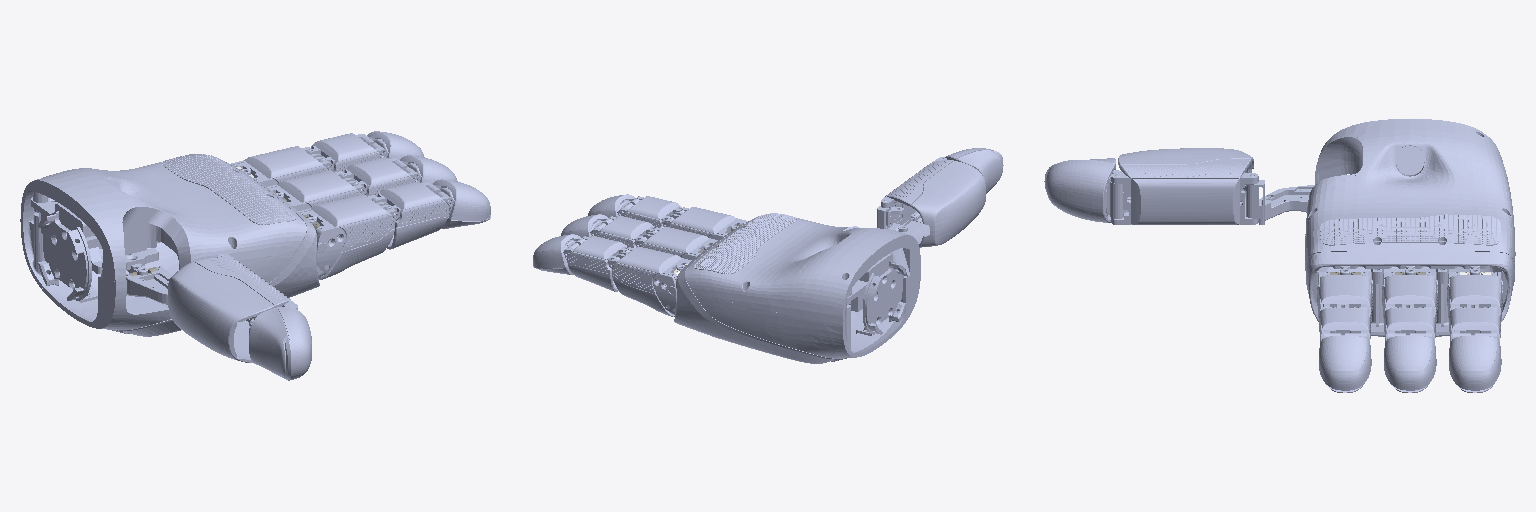
robot.urdf — dexh13_right:
<?xml version="1.0" encoding="utf-8"?>
<!-- This URDF was automatically created by SolidWorks to URDF Exporter! Originally created by [author] ([email redacted]) 
     Commit Version: 1.6.0-4-g7f85cfe  Build Version: 1.6.7995.38578
     For more information, please see http://wiki.ros.org/sw_urdf_exporter -->
<robot
  name="dexh13_right">
  <link
    name="right_palm">
    <inertial>
      <origin
        xyz="0.058857 0.0011395 -0.0010923"
        rpy="0 0 0" />
      <mass
        value="0.14602" />
      <inertia
        ixx="0.00014434"
        ixy="4.5222E-06"
        ixz="7.0377E-06"
        iyy="0.00015522"
        iyz="-1.5057E-06"
        izz="0.00027709" />
    </inertial>
    <visual>
      <origin
        xyz="0 0 0"
        rpy="0 0 0" />
      <geometry>
        <mesh
          filename="package://bullet_simulation_pkg/meshes/dexh13_right/meshes/right_palm.STL" />
      </geometry>
      <material
        name="">
        <color
          rgba="0.79216 0.81961 0.93333 1" />
      </material>
    </visual>
    <collision>
      <origin
        xyz="0 0 0"
        rpy="0 0 0" />
      <geometry>
        <mesh
          filename="package://bullet_simulation_pkg/meshes/dexh13_right/meshes/right_palm.STL" />
      </geometry>
    </collision>
  </link>
  <link
    name="right_thumb_link_0">
    <inertial>
      <origin
        xyz="0.00022689 -4.6121E-11 -2.1931E-05"
        rpy="0 0 0" />
      <mass
        value="0.00021958" />
      <inertia
        ixx="5.0993E-09"
        ixy="2.4672E-16"
        ixz="1.0918E-12"
        iyy="8.3569E-10"
        iyz="-9.2448E-18"
        izz="5.3667E-09" />
    </inertial>
    <visual>
      <origin
        xyz="0 0 0"
        rpy="0 0 0" />
      <geometry>
        <mesh
          filename="package://bullet_simulation_pkg/meshes/dexh13_right/meshes/right_thumb_link_0.STL" />
      </geometry>
      <material
        name="">
        <color
          rgba="0.66667 0.66667 0.6549 1" />
      </material>
    </visual>
    <collision>
      <origin
        xyz="0 0 0"
        rpy="0 0 0" />
      <geometry>
        <mesh
          filename="package://bullet_simulation_pkg/meshes/dexh13_right/meshes/right_thumb_link_0.STL" />
      </geometry>
    </collision>
  </link>
  <joint
    name="right_thumb_joint_0"
    type="revolute">
    <origin
      xyz="0.026 -0.0365 -0.00025"
      rpy="3.1416 0 -1.5708" />
    <parent
      link="right_palm" />
    <child
      link="right_thumb_link_0" />
    <axis
      xyz="0 0 1" />
    <limit
      lower="-0.349"
      upper="0.349"
      effort="1"
      velocity="2" />
  </joint>
  <link
    name="right_thumb_link_1">
    <inertial>
      <origin
        xyz="0.020619 0.00016609 -0.0068342"
        rpy="0 0 0" />
      <mass
        value="0.0051746" />
      <inertia
        ixx="6.2523E-07"
        ixy="-2.4757E-07"
        ixz="5.2859E-07"
        iyy="1.5946E-06"
        iyz="1.4958E-07"
        izz="1.2368E-06" />
    </inertial>
    <visual>
      <origin
        xyz="0 0 0"
        rpy="0 0 0" />
      <geometry>
        <mesh
          filename="package://bullet_simulation_pkg/meshes/dexh13_right/meshes/right_thumb_link_1.STL" />
      </geometry>
      <material
        name="">
        <color
          rgba="0.79216 0.81961 0.93333 1" />
      </material>
    </visual>
    <collision>
      <origin
        xyz="0 0 0"
        rpy="0 0 0" />
      <geometry>
        <mesh
          filename="package://bullet_simulation_pkg/meshes/dexh13_right/meshes/right_thumb_link_1.STL" />
      </geometry>
    </collision>
  </link>
  <joint
    name="right_thumb_joint_1"
    type="revolute">
    <origin
      xyz="0 0 0"
      rpy="-1.5708 0 0" />
    <parent
      link="right_thumb_link_0" />
    <child
      link="right_thumb_link_1" />
    <axis
      xyz="0 0 1" />
    <limit
      lower="0"
      upper="1.5707"
      effort="1"
      velocity="2" />
  </joint>
  <link
    name="right_thumb_link_2">
    <inertial>
      <origin
        xyz="0.02918645206419 -0.0186272539522961 -0.000218603467386669"
        rpy="0 0 0" />
      <mass
        value="0.0167100811373488" />
      <inertia
        ixx="2.5428679239645E-06"
        ixy="8.65483361519591E-07"
        ixz="-1.60738702947654E-08"
        iyy="6.42438168579997E-06"
        iyz="5.60119113005685E-09"
        izz="6.11372810219796E-06" />
    </inertial>
    <visual>
      <origin
        xyz="0 0 0"
        rpy="0 0 0" />
      <geometry>
        <mesh
          filename="package://bullet_simulation_pkg/meshes/dexh13_right/meshes/right_thumb_link_2.STL" />
      </geometry>
      <material
        name="">
        <color
          rgba="0.792156862745098 0.819607843137255 0.933333333333333 1" />
      </material>
    </visual>
    <collision>
      <origin
        xyz="0 0 0"
        rpy="0 0 0" />
      <geometry>
        <mesh
          filename="package://bullet_simulation_pkg/meshes/dexh13_right/meshes/right_thumb_link_2.STL" />
      </geometry>
    </collision>
  </link>
  <joint
    name="right_thumb_joint_2"
    type="revolute">
    <origin
      xyz="0.039999 0.009 -0.0215"
      rpy="-1.5708 0.261799388 0" />
    <parent
      link="right_thumb_link_1" />
    <child
      link="right_thumb_link_2" />
    <axis
      xyz="0 0 1" />
    <limit
      lower="0"
      upper="1.5707"
      effort="1"
      velocity="2" />
  </joint>
  <link
    name="right_thumb_link_3">
    <inertial>
      <origin
        xyz="0.0099378 -0.0145 -4.7179E-05"
        rpy="0 0 0" />
      <mass
        value="0.016623" />
      <inertia
        ixx="1.4378E-06"
        ixy="5.4779E-07"
        ixz="-8.5437E-09"
        iyy="1.6315E-06"
        iyz="6.1424E-09"
        izz="1.4635E-06" />
    </inertial>
    <visual>
      <origin
        xyz="0 0 0"
        rpy="0 0 0" />
      <geometry>
        <mesh
          filename="package://bullet_simulation_pkg/meshes/dexh13_right/meshes/right_thumb_link_3.STL" />
      </geometry>
      <material
        name="">
        <color
          rgba="0.79216 0.81961 0.93333 1" />
      </material>
    </visual>
    <collision>
      <origin
        xyz="0 0 0"
        rpy="0 0 0" />
      <geometry>
        <mesh
          filename="package://bullet_simulation_pkg/meshes/dexh13_right/meshes/right_thumb_link_3.STL" />
      </geometry>
    </collision>
  </link>
  <joint
    name="right_thumb_joint_3"
    type="revolute">
    <origin
      xyz="0.063268 -0.016953 0"
      rpy="0 0 0" />
    <parent
      link="right_thumb_link_2" />
    <child
      link="right_thumb_link_3" />
    <axis
      xyz="0 0 1" />
    <limit
      lower="0"
      upper="1.5707"
      effort="1"
      velocity="2" />
  </joint>
  <link
    name="right_index_link_0">
    <inertial>
      <origin
        xyz="0.00022689 4.6121E-11 2.1931E-05"
        rpy="0 0 0" />
      <mass
        value="0.00021958" />
      <inertia
        ixx="5.0993E-09"
        ixy="-2.4672E-16"
        ixz="-1.0918E-12"
        iyy="8.3569E-10"
        iyz="-9.2447E-18"
        izz="5.3667E-09" />
    </inertial>
    <visual>
      <origin
        xyz="0 0 0"
        rpy="0 0 0" />
      <geometry>
        <mesh
          filename="package://bullet_simulation_pkg/meshes/dexh13_right/meshes/right_index_link_0.STL" />
      </geometry>
      <material
        name="">
        <color
          rgba="0.66667 0.66667 0.6549 1" />
      </material>
    </visual>
    <collision>
      <origin
        xyz="0 0 0"
        rpy="0 0 0" />
      <geometry>
        <mesh
          filename="package://bullet_simulation_pkg/meshes/dexh13_right/meshes/right_index_link_0.STL" />
      </geometry>
    </collision>
  </link>
  <joint
    name="right_index_joint_0"
    type="revolute">
    <origin
      xyz="0.122 -0.0315 0.00175"
      rpy="-3.1416 0 0" />
    <parent
      link="right_palm" />
    <child
      link="right_index_link_0" />
    <axis
      xyz="0 0 1" />
    <limit
      lower="-0.349"
      upper="0.349"
      effort="1"
      velocity="2" />
  </joint>
  <link
    name="right_index_link_1">
    <inertial>
      <origin
        xyz="0.013497 -0.0082165 -0.00012423"
        rpy="0 0 0" />
      <mass
        value="0.011243" />
      <inertia
        ixx="8.2451E-07"
        ixy="-1.615E-07"
        ixz="-6.771E-09"
        iyy="1.587E-06"
        iyz="-1.3021E-09"
        izz="1.282E-06" />
    </inertial>
    <visual>
      <origin
        xyz="0 0 0"
        rpy="0 0 0" />
      <geometry>
        <mesh
          filename="package://bullet_simulation_pkg/meshes/dexh13_right/meshes/right_index_link_1.STL" />
      </geometry>
      <material
        name="">
        <color
          rgba="0.79216 0.81961 0.93333 1" />
      </material>
    </visual>
    <collision>
      <origin
        xyz="0 0 0"
        rpy="0 0 0" />
      <geometry>
        <mesh
          filename="package://bullet_simulation_pkg/meshes/dexh13_right/meshes/right_index_link_1.STL" />
      </geometry>
    </collision>
  </link>
  <joint
    name="right_index_joint_1"
    type="revolute">
    <origin
      xyz="0 0 0"
      rpy="-1.5708 0 0" />
    <parent
      link="right_index_link_0" />
    <child
      link="right_index_link_1" />
    <axis
      xyz="0 0 1" />
    <limit
      lower="0"
      upper="1.5707"
      effort="1"
      velocity="2" />
  </joint>
  <link
    name="right_index_link_2">
    <inertial>
      <origin
        xyz="0.0137857073448056 -0.00378219545864722 -4.81393113573522E-05"
        rpy="0 0 0" />
      <mass
        value="0.0060940829771732" />
      <inertia
        ixx="4.05222652751935E-07"
        ixy="-2.63296727229242E-08"
        ixz="-6.2205892933295E-09"
        iyy="6.69894710350192E-07"
        iyz="1.14007707610596E-10"
        izz="4.5058620817902E-07" />
    </inertial>
    <visual>
      <origin
        xyz="0 0 0"
        rpy="0 0 0" />
      <geometry>
        <mesh
          filename="package://bullet_simulation_pkg/meshes/dexh13_right/meshes/right_index_link_2.STL" />
      </geometry>
      <material
        name="">
        <color
          rgba="0.792156862745098 0.819607843137255 0.933333333333333 1" />
      </material>
    </visual>
    <collision>
      <origin
        xyz="0 0 0"
        rpy="0 0 0" />
      <geometry>
        <mesh
          filename="package://bullet_simulation_pkg/meshes/dexh13_right/meshes/right_index_link_2.STL" />
      </geometry>
    </collision>
  </link>
  <joint
    name="right_index_joint_2"
    type="revolute">
    <origin
      xyz="0.04 0 0"
      rpy="0 0 0" />
    <parent
      link="right_index_link_1" />
    <child
      link="right_index_link_2" />
    <axis
      xyz="0 0 1" />
    <limit
      lower="0"
      upper="1.5707"
      effort="1"
      velocity="2" />
  </joint>
  <link
    name="right_index_link_3">
    <inertial>
      <origin
        xyz="0.010653 -0.0078229 8.3867E-05"
        rpy="0 0 0" />
      <mass
        value="0.0084358" />
      <inertia
        ixx="4.2095E-07"
        ixy="1.3093E-07"
        ixz="6.1359E-10"
        iyy="6.4835E-07"
        iyz="1.4884E-09"
        izz="4.8338E-07" />
    </inertial>
    <visual>
      <origin
        xyz="0 0 0"
        rpy="0 0 0" />
      <geometry>
        <mesh
          filename="package://bullet_simulation_pkg/meshes/dexh13_right/meshes/right_index_link_3.STL" />
      </geometry>
      <material
        name="">
        <color
          rgba="0.79216 0.81961 0.93333 1" />
      </material>
    </visual>
    <collision>
      <origin
        xyz="0 0 0"
        rpy="0 0 0" />
      <geometry>
        <mesh
          filename="package://bullet_simulation_pkg/meshes/dexh13_right/meshes/right_index_link_3.STL" />
      </geometry>
    </collision>
  </link>
  <joint
    name="right_index_joint_3"
    type="revolute">
    <origin
      xyz="0.03 0 0"
      rpy="0 0 0" />
    <parent
      link="right_index_link_2" />
    <child
      link="right_index_link_3" />
    <axis
      xyz="0 0 1" />
    <limit
      lower="0"
      upper="1.5707"
      effort="1"
      velocity="2" />
  </joint>
  <link
    name="right_middle_link_0">
    <inertial>
      <origin
        xyz="0.00022689 4.6121E-11 2.1931E-05"
        rpy="0 0 0" />
      <mass
        value="0.00021958" />
      <inertia
        ixx="5.0993E-09"
        ixy="-2.4672E-16"
        ixz="-1.0918E-12"
        iyy="8.3569E-10"
        iyz="-9.2447E-18"
        izz="5.3667E-09" />
    </inertial>
    <visual>
      <origin
        xyz="0 0 0"
        rpy="0 0 0" />
      <geometry>
        <mesh
          filename="package://bullet_simulation_pkg/meshes/dexh13_right/meshes/right_middle_link_0.STL" />
      </geometry>
      <material
        name="">
        <color
          rgba="0.66667 0.66667 0.6549 1" />
      </material>
    </visual>
    <collision>
      <origin
        xyz="0 0 0"
        rpy="0 0 0" />
      <geometry>
        <mesh
          filename="package://bullet_simulation_pkg/meshes/dexh13_right/meshes/right_middle_link_0.STL" />
      </geometry>
    </collision>
  </link>
  <joint
    name="right_middle_joint_0"
    type="revolute">
    <origin
      xyz="0.122 0 0.00175"
      rpy="-3.1416 0 0" />
    <parent
      link="right_palm" />
    <child
      link="right_middle_link_0" />
    <axis
      xyz="0 0 1" />
    <limit
      lower="-0.349"
      upper="0.349"
      effort="1"
      velocity="2" />
  </joint>
  <link
    name="right_middle_link_1">
    <inertial>
      <origin
        xyz="0.013497 -0.0082165 -0.00012423"
        rpy="0 0 0" />
      <mass
        value="0.011243" />
      <inertia
        ixx="8.2451E-07"
        ixy="-1.615E-07"
        ixz="-6.771E-09"
        iyy="1.587E-06"
        iyz="-1.3021E-09"
        izz="1.282E-06" />
    </inertial>
    <visual>
      <origin
        xyz="0 0 0"
        rpy="0 0 0" />
      <geometry>
        <mesh
          filename="package://bullet_simulation_pkg/meshes/dexh13_right/meshes/right_middle_link_1.STL" />
      </geometry>
      <material
        name="">
        <color
          rgba="0.79216 0.81961 0.93333 1" />
      </material>
    </visual>
    <collision>
      <origin
        xyz="0 0 0"
        rpy="0 0 0" />
      <geometry>
        <mesh
          filename="package://bullet_simulation_pkg/meshes/dexh13_right/meshes/right_middle_link_1.STL" />
      </geometry>
    </collision>
  </link>
  <joint
    name="right_middle_joint_1"
    type="revolute">
    <origin
      xyz="0 0 0"
      rpy="-1.5708 0 0" />
    <parent
      link="right_middle_link_0" />
    <child
      link="right_middle_link_1" />
    <axis
      xyz="0 0 1" />
    <limit
      lower="0"
      upper="1.5707"
      effort="1"
      velocity="2" />
  </joint>
  <link
    name="right_middle_link_2">
    <inertial>
      <origin
        xyz="0.013786 -0.0037822 -4.8139E-05"
        rpy="0 0 0" />
      <mass
        value="0.0060941" />
      <inertia
        ixx="4.0522E-07"
        ixy="-2.633E-08"
        ixz="-6.2206E-09"
        iyy="6.6989E-07"
        iyz="1.1401E-10"
        izz="4.5059E-07" />
    </inertial>
    <visual>
      <origin
        xyz="0 0 0"
        rpy="0 0 0" />
      <geometry>
        <mesh
          filename="package://bullet_simulation_pkg/meshes/dexh13_right/meshes/right_middle_link_2.STL" />
      </geometry>
      <material
        name="">
        <color
          rgba="0.79216 0.81961 0.93333 1" />
      </material>
    </visual>
    <collision>
      <origin
        xyz="0 0 0"
        rpy="0 0 0" />
      <geometry>
        <mesh
          filename="package://bullet_simulation_pkg/meshes/dexh13_right/meshes/right_middle_link_2.STL" />
      </geometry>
    </collision>
  </link>
  <joint
    name="right_middle_joint_2"
    type="revolute">
    <origin
      xyz="0.04 0 0"
      rpy="0 0 0" />
    <parent
      link="right_middle_link_1" />
    <child
      link="right_middle_link_2" />
    <axis
      xyz="0 0 1" />
    <limit
      lower="0"
      upper="1.5707"
      effort="1"
      velocity="2" />
  </joint>
  <link
    name="right_middle_link_3">
    <inertial>
      <origin
        xyz="0.010653 -0.0078229 8.3867E-05"
        rpy="0 0 0" />
      <mass
        value="0.0084358" />
      <inertia
        ixx="4.2095E-07"
        ixy="1.3093E-07"
        ixz="6.1359E-10"
        iyy="6.4835E-07"
        iyz="1.4884E-09"
        izz="4.8338E-07" />
    </inertial>
    <visual>
      <origin
        xyz="0 0 0"
        rpy="0 0 0" />
      <geometry>
        <mesh
          filename="package://bullet_simulation_pkg/meshes/dexh13_right/meshes/right_middle_link_3.STL" />
      </geometry>
      <material
        name="">
        <color
          rgba="0.79216 0.81961 0.93333 1" />
      </material>
    </visual>
    <collision>
      <origin
        xyz="0 0 0"
        rpy="0 0 0" />
      <geometry>
        <mesh
          filename="package://bullet_simulation_pkg/meshes/dexh13_right/meshes/right_middle_link_3.STL" />
      </geometry>
    </collision>
  </link>
  <joint
    name="right_middle_joint_3"
    type="revolute">
    <origin
      xyz="0.03 0 0"
      rpy="0 0 0" />
    <parent
      link="right_middle_link_2" />
    <child
      link="right_middle_link_3" />
    <axis
      xyz="0 0 1" />
    <limit
      lower="0"
      upper="1.5707"
      effort="1"
      velocity="2" />
  </joint>
  <link
    name="right_ring_link_0">
    <inertial>
      <origin
        xyz="0 0 0"
        rpy="0 0 0" />
      <mass
        value="0" />
      <inertia
        ixx="0"
        ixy="0"
        ixz="0"
        iyy="0"
        iyz="0"
        izz="0" />
    </inertial>
    <visual>
      <origin
        xyz="0 0 0"
        rpy="0 0 0" />
      <geometry>
        <mesh
          filename="package://bullet_simulation_pkg/meshes/dexh13_right/meshes/right_ring_link_0.STL" />
      </geometry>
      <material
        name="">
        <color
          rgba="1 1 1 1" />
      </material>
    </visual>
    <collision>
      <origin
        xyz="0 0 0"
        rpy="0 0 0" />
      <geometry>
        <mesh
          filename="package://bullet_simulation_pkg/meshes/dexh13_right/meshes/right_ring_link_0.STL" />
      </geometry>
    </collision>
  </link>
  <joint
    name="right_ring_joint_0"
    type="revolute">
    <origin
      xyz="0.122 0.0315 0.00175"
      rpy="-3.1416 0 0" />
    <parent
      link="right_palm" />
    <child
      link="right_ring_link_0" />
    <axis
      xyz="0 0 1" />
    <limit
      lower="-0.349"
      upper="0.349"
      effort="1"
      velocity="2" />
  </joint>
  <link
    name="right_ring_link_1">
    <inertial>
      <origin
        xyz="0.013497 -0.0082165 -0.00012423"
        rpy="0 0 0" />
      <mass
        value="0.011243" />
      <inertia
        ixx="8.2451E-07"
        ixy="-1.615E-07"
        ixz="-6.771E-09"
        iyy="1.587E-06"
        iyz="-1.3021E-09"
        izz="1.282E-06" />
    </inertial>
    <visual>
      <origin
        xyz="0 0 0"
        rpy="0 0 0" />
      <geometry>
        <mesh
          filename="package://bullet_simulation_pkg/meshes/dexh13_right/meshes/right_ring_link_1.STL" />
      </geometry>
      <material
        name="">
        <color
          rgba="0.79216 0.81961 0.93333 1" />
      </material>
    </visual>
    <collision>
      <origin
        xyz="0 0 0"
        rpy="0 0 0" />
      <geometry>
        <mesh
          filename="package://bullet_simulation_pkg/meshes/dexh13_right/meshes/right_ring_link_1.STL" />
      </geometry>
    </collision>
  </link>
  <joint
    name="right_ring_joint_1"
    type="revolute">
    <origin
      xyz="0 0 0"
      rpy="-1.5708 0 0" />
    <parent
      link="right_ring_link_0" />
    <child
      link="right_ring_link_1" />
    <axis
      xyz="0 0 1" />
    <limit
      lower="0"
      upper="1.5707"
      effort="1"
      velocity="2" />
  </joint>
  <link
    name="right_ring_link_2">
    <inertial>
      <origin
        xyz="0.013786 -0.0037823 -4.8139E-05"
        rpy="0 0 0" />
      <mass
        value="0.0060941" />
      <inertia
        ixx="4.0522E-07"
        ixy="-2.633E-08"
        ixz="-6.2206E-09"
        iyy="6.6989E-07"
        iyz="1.1401E-10"
        izz="4.5059E-07" />
    </inertial>
    <visual>
      <origin
        xyz="0 0 0"
        rpy="0 0 0" />
      <geometry>
        <mesh
          filename="package://bullet_simulation_pkg/meshes/dexh13_right/meshes/right_ring_link_2.STL" />
      </geometry>
      <material
        name="">
        <color
          rgba="0.79216 0.81961 0.93333 1" />
      </material>
    </visual>
    <collision>
      <origin
        xyz="0 0 0"
        rpy="0 0 0" />
      <geometry>
        <mesh
          filename="package://bullet_simulation_pkg/meshes/dexh13_right/meshes/right_ring_link_2.STL" />
      </geometry>
    </collision>
  </link>
  <joint
    name="right_ring_joint_2"
    type="revolute">
    <origin
      xyz="0.04 0 0"
      rpy="0 0 0" />
    <parent
      link="right_ring_link_1" />
    <child
      link="right_ring_link_2" />
    <axis
      xyz="0 0 1" />
    <limit
      lower="0"
      upper="1.5707"
      effort="1"
      velocity="2" />
  </joint>
  <link
    name="right_ring_link_3">
    <inertial>
      <origin
        xyz="0.010653 -0.0078229 8.3868E-05"
        rpy="0 0 0" />
      <mass
        value="0.0084358" />
      <inertia
        ixx="4.2095E-07"
        ixy="1.3093E-07"
        ixz="6.136E-10"
        iyy="6.4835E-07"
        iyz="1.4883E-09"
        izz="4.8338E-07" />
    </inertial>
    <visual>
      <origin
        xyz="0 0 0"
        rpy="0 0 0" />
      <geometry>
        <mesh
          filename="package://bullet_simulation_pkg/meshes/dexh13_right/meshes/right_ring_link_3.STL" />
      </geometry>
      <material
        name="">
        <color
          rgba="0.79216 0.81961 0.93333 1" />
      </material>
    </visual>
    <collision>
      <origin
        xyz="0 0 0"
        rpy="0 0 0" />
      <geometry>
        <mesh
          filename="package://bullet_simulation_pkg/meshes/dexh13_right/meshes/right_ring_link_3.STL" />
      </geometry>
    </collision>
  </link>
  <joint
    name="right_ring_joint_3"
    type="revolute">
    <origin
      xyz="0.03 0 0"
      rpy="0 0 0" />
    <parent
      link="right_ring_link_2" />
    <child
      link="right_ring_link_3" />
    <axis
      xyz="0 0 1" />
    <limit
      lower="0"
      upper="1.5707"
      effort="1"
      velocity="2" />
  </joint>
</robot>

--- Facts derived from the render (not from the file) ---
Views: 3 orthographic renders of the robot side by side, from view 1: azimuth 30°, elevation 25°; view 2: azimuth 150°, elevation 25°; view 3: azimuth 270°, elevation 25°.
Model dexh13_right with 17 links and 16 joints (16 revolute), rooted at right_palm, posed every joint at zero.
Links seen in each view (by area): view 1: right_palm, right_thumb_link_2, right_index_link_1, right_thumb_link_3, right_index_link_2, right_ring_link_1, right_middle_link_1, right_index_link_3, right_middle_link_2, right_ring_link_2, right_thumb_link_1, right_ring_link_3 (+1 smaller); view 2: right_palm, right_thumb_link_2, right_ring_link_1, right_ring_link_2, right_index_link_1, right_middle_link_1, right_ring_link_3, right_thumb_link_3, right_middle_link_2, right_index_link_2, right_index_link_3, right_middle_link_3; view 3: right_palm, right_thumb_link_2, right_thumb_link_3, right_index_link_3, right_middle_link_3, right_ring_link_3, right_index_link_1, right_middle_link_1, right_ring_link_1, right_thumb_link_1, right_index_link_2, right_middle_link_2 (+1 smaller).
Boxes of the visible links, x1,y1,x2,y2 form: right_palm: [20, 154, 319, 336]; right_thumb_link_2: [168, 254, 297, 362]; right_index_link_1: [298, 194, 398, 279]; right_thumb_link_3: [249, 305, 311, 380]; right_index_link_2: [372, 181, 453, 249]; right_ring_link_1: [231, 146, 333, 186]; right_middle_link_1: [267, 170, 365, 210]; right_index_link_3: [427, 179, 490, 228]; right_middle_link_2: [340, 157, 420, 196]; right_ring_link_2: [307, 133, 387, 172]; right_thumb_link_1: [126, 266, 172, 304]; right_ring_link_3: [361, 131, 424, 159]; right_palm: [674, 213, 920, 363]; right_thumb_link_2: [881, 157, 985, 247]; right_ring_link_1: [608, 246, 691, 316]; right_ring_link_2: [564, 236, 630, 291]; right_index_link_1: [663, 207, 747, 239]; right_middle_link_1: [636, 226, 717, 259]; right_ring_link_3: [533, 234, 585, 274]; right_thumb_link_3: [941, 148, 1003, 193]; right_middle_link_2: [591, 216, 657, 247]; right_index_link_2: [618, 196, 684, 227]; right_index_link_3: [588, 194, 639, 217]; right_middle_link_3: [561, 214, 612, 237]; right_palm: [1305, 119, 1515, 336]; right_thumb_link_2: [1111, 148, 1258, 224]; right_thumb_link_3: [1044, 158, 1128, 222]; right_index_link_3: [1319, 333, 1371, 392]; right_middle_link_3: [1384, 333, 1436, 392]; right_ring_link_3: [1449, 333, 1501, 392]; right_index_link_1: [1317, 272, 1372, 330]; right_middle_link_1: [1382, 272, 1437, 330]; right_ring_link_1: [1447, 272, 1502, 330]; right_thumb_link_1: [1243, 180, 1314, 224]; right_index_link_2: [1319, 307, 1370, 342]; right_middle_link_2: [1384, 307, 1435, 342].
Size in the robot's own frame: 0.2195 by 0.2283 by 0.0723 metres.
Meshes: 17 distinct files referenced, 17 mesh visuals loaded (17 binary STL).
